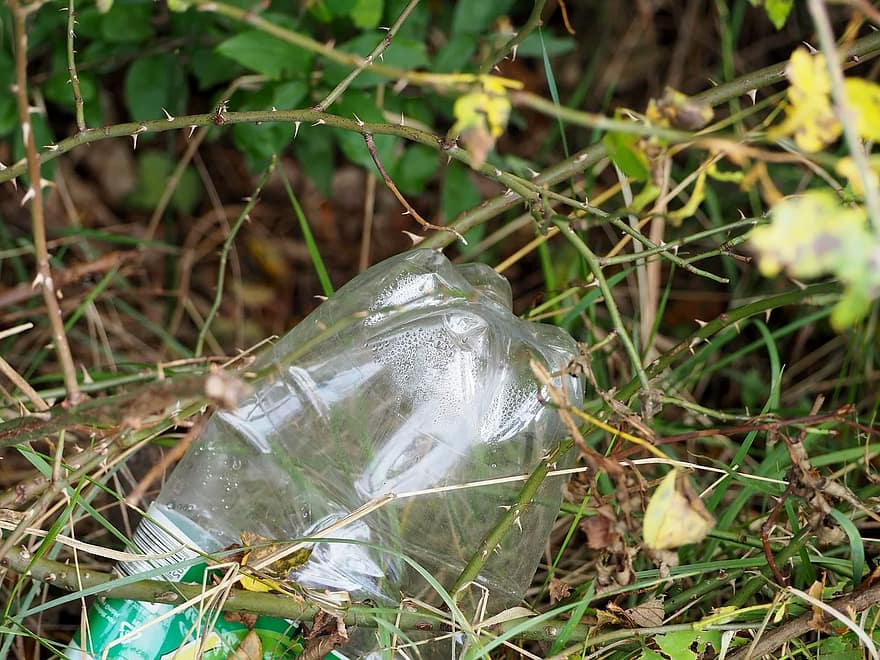plastic_bottle: (25, 217, 718, 660)
